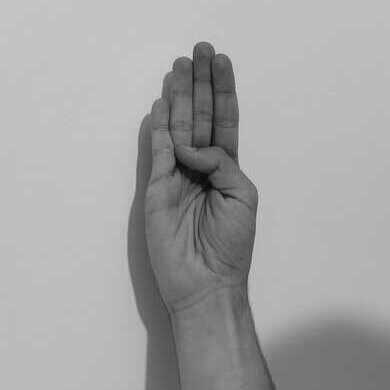B: (141, 39, 262, 311)
